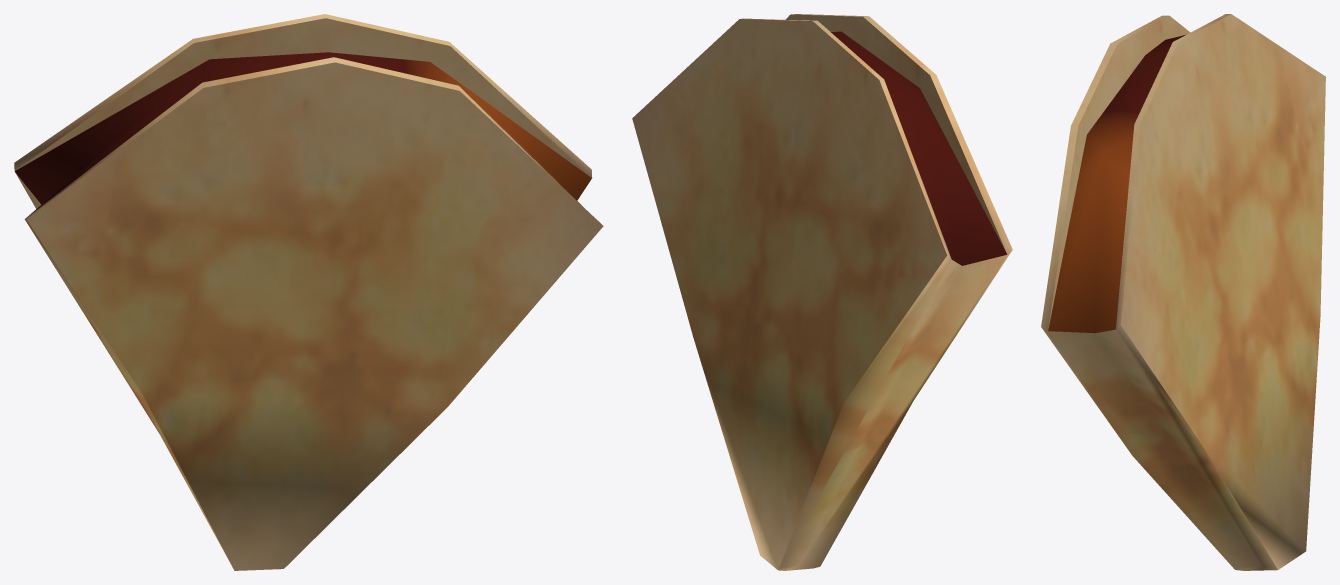
The model's file is H_Crepe_Sapph.fbx.
3 renders of one model, left to right at view 1: azimuth 30°, elevation 25°; view 2: azimuth 150°, elevation 25°; view 3: azimuth 270°, elevation 25°, orthographic. The views are drawn at different scales.
Visible parts, largest first — view 1: Taco; view 2: Taco; view 3: Taco.
Boxes of the visible parts, x1,y1,x2,y2 form: Taco: (14,14,603,570); Taco: (632,14,1012,570); Taco: (1041,14,1325,570).
Size of the model in its own units: 27.85 by 30.71 by 14.88.
